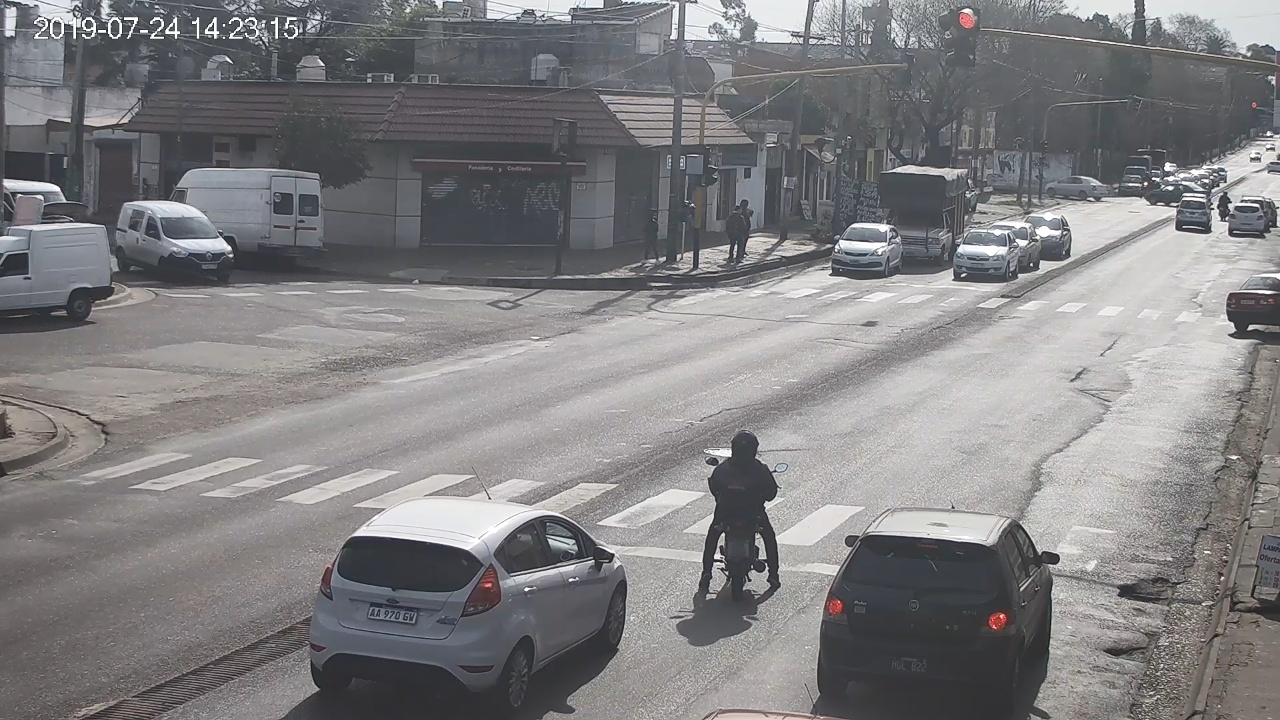car: (310, 496, 627, 705), (817, 508, 1062, 699)
motorcycle: (699, 457, 788, 597)
traffic light: (957, 8, 976, 65)
